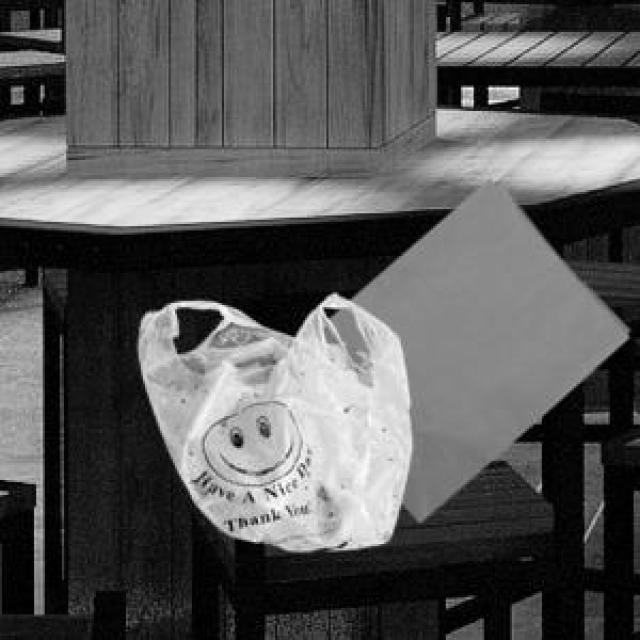paper: (324, 177, 625, 516)
